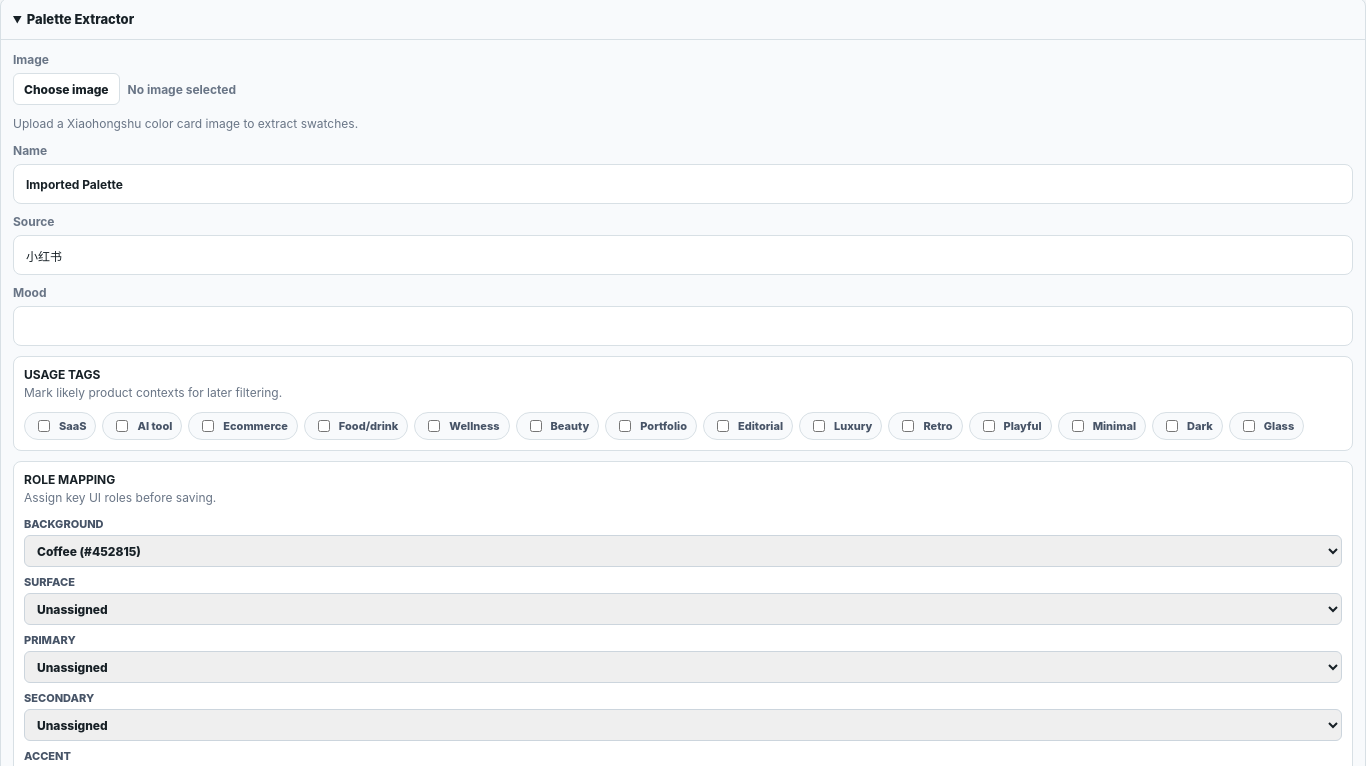
Test: PaletteExtractor › stores selected usage scenario tags in the generated markdown
This screenshot has width=1366, height=766.
Click the checkbox labelled "AI tool" at (122, 426), box [116, 420, 128, 432]
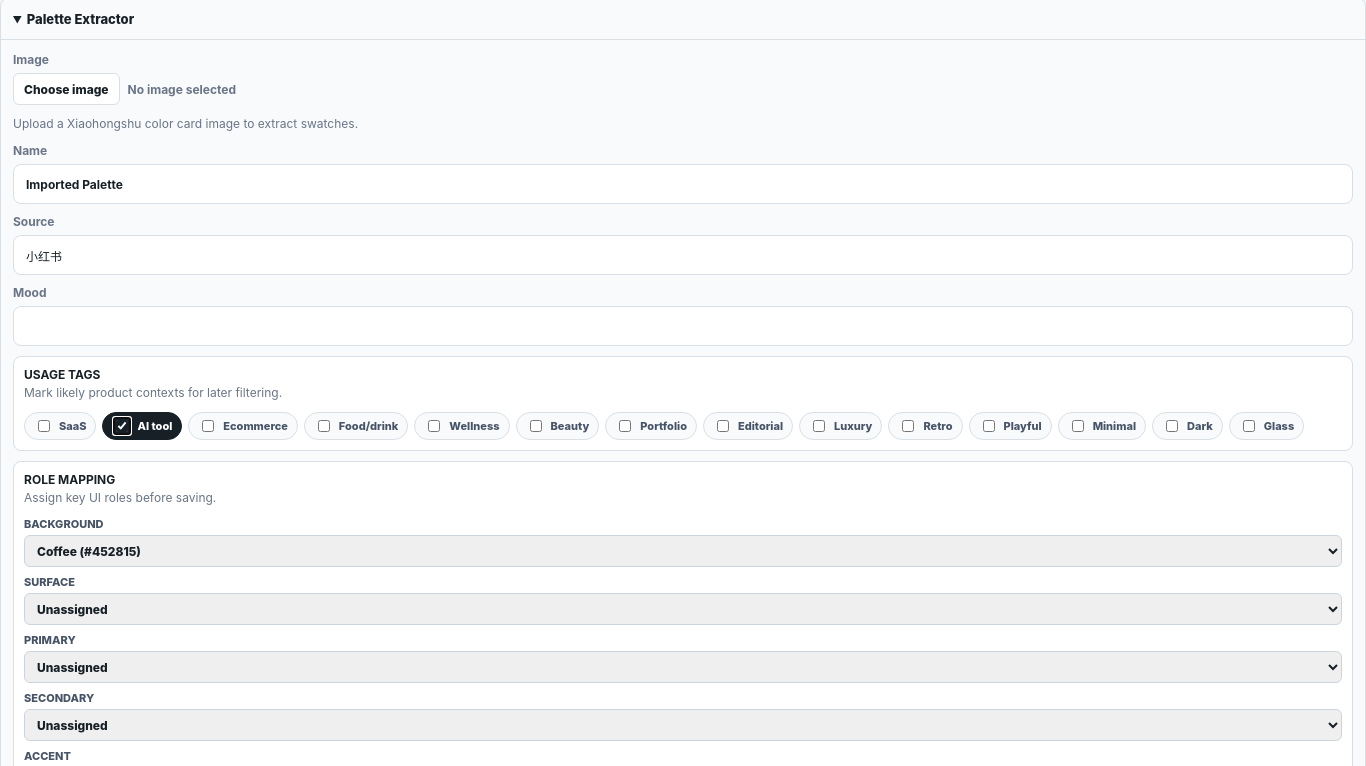
Click the checkbox labelled "Food/drink" at (324, 426), box [318, 420, 330, 432]
(page scrolled)
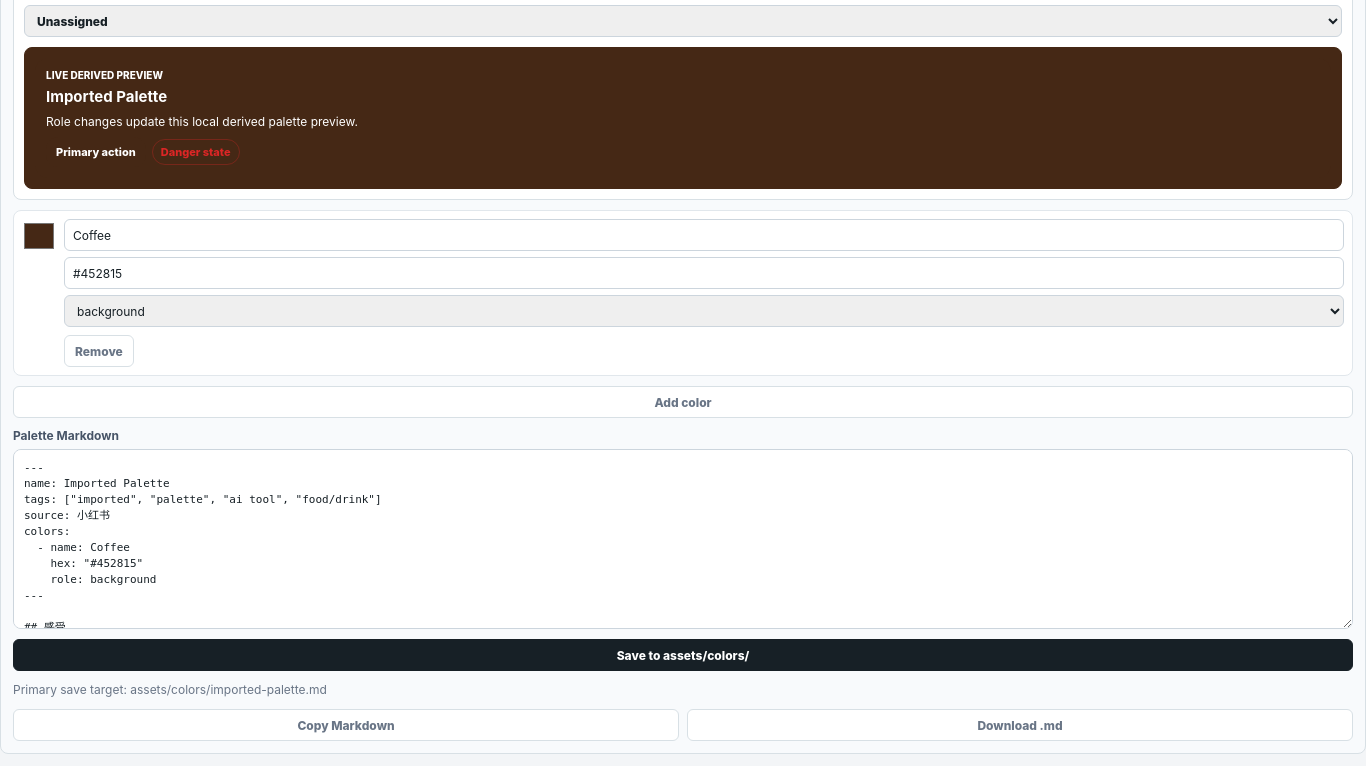
Check: the text box showing "\"food/drink\"" is shown, box [13, 449, 1353, 629]
